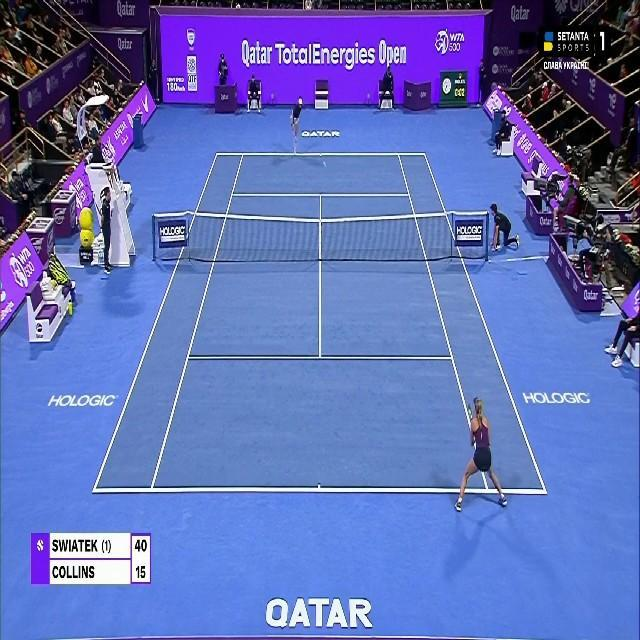left side: (93, 153, 243, 492), (398, 154, 547, 493)
player: (454, 396, 507, 511), (288, 96, 305, 158)
